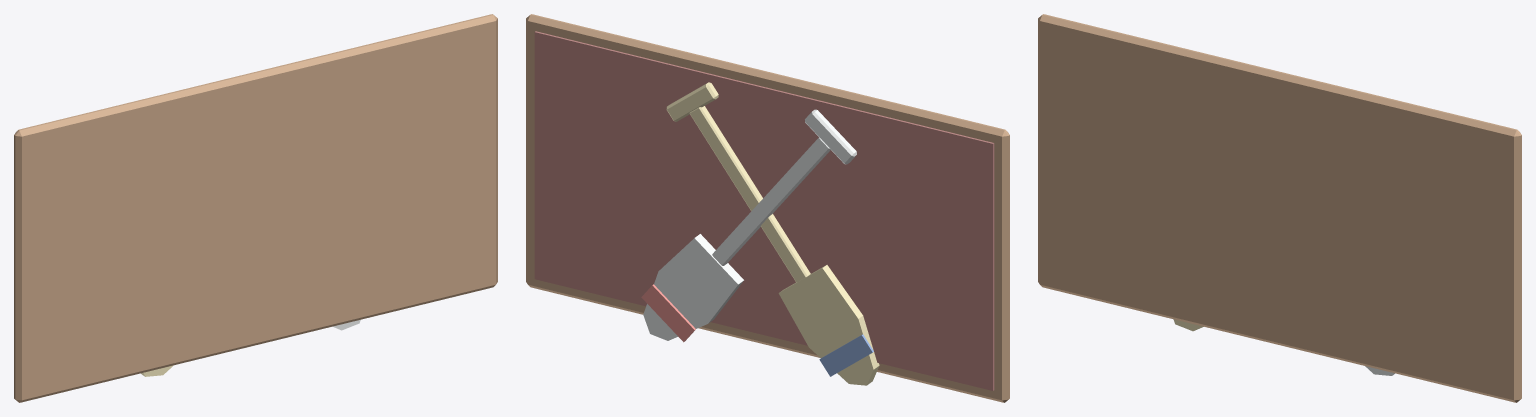
The model's file is crossed_paddles.glb.
The picture shows the model from 3 angles, left to right: view 1: azimuth 30°, elevation 25°; view 2: azimuth 150°, elevation 25°; view 3: azimuth 330°, elevation 25°; orthographic projection.
Parts seen in each view (by area): view 1: CrossedPaddles; view 2: CrossedPaddles; view 3: CrossedPaddles.
Boxes of the visible parts, box(x1,y1,x2,y2) form: CrossedPaddles: box(14, 14, 497, 402); CrossedPaddles: box(526, 14, 1009, 402); CrossedPaddles: box(1038, 14, 1521, 402).
Size of the model in its own units: 1.27 by 0.7128 by 0.0664.
